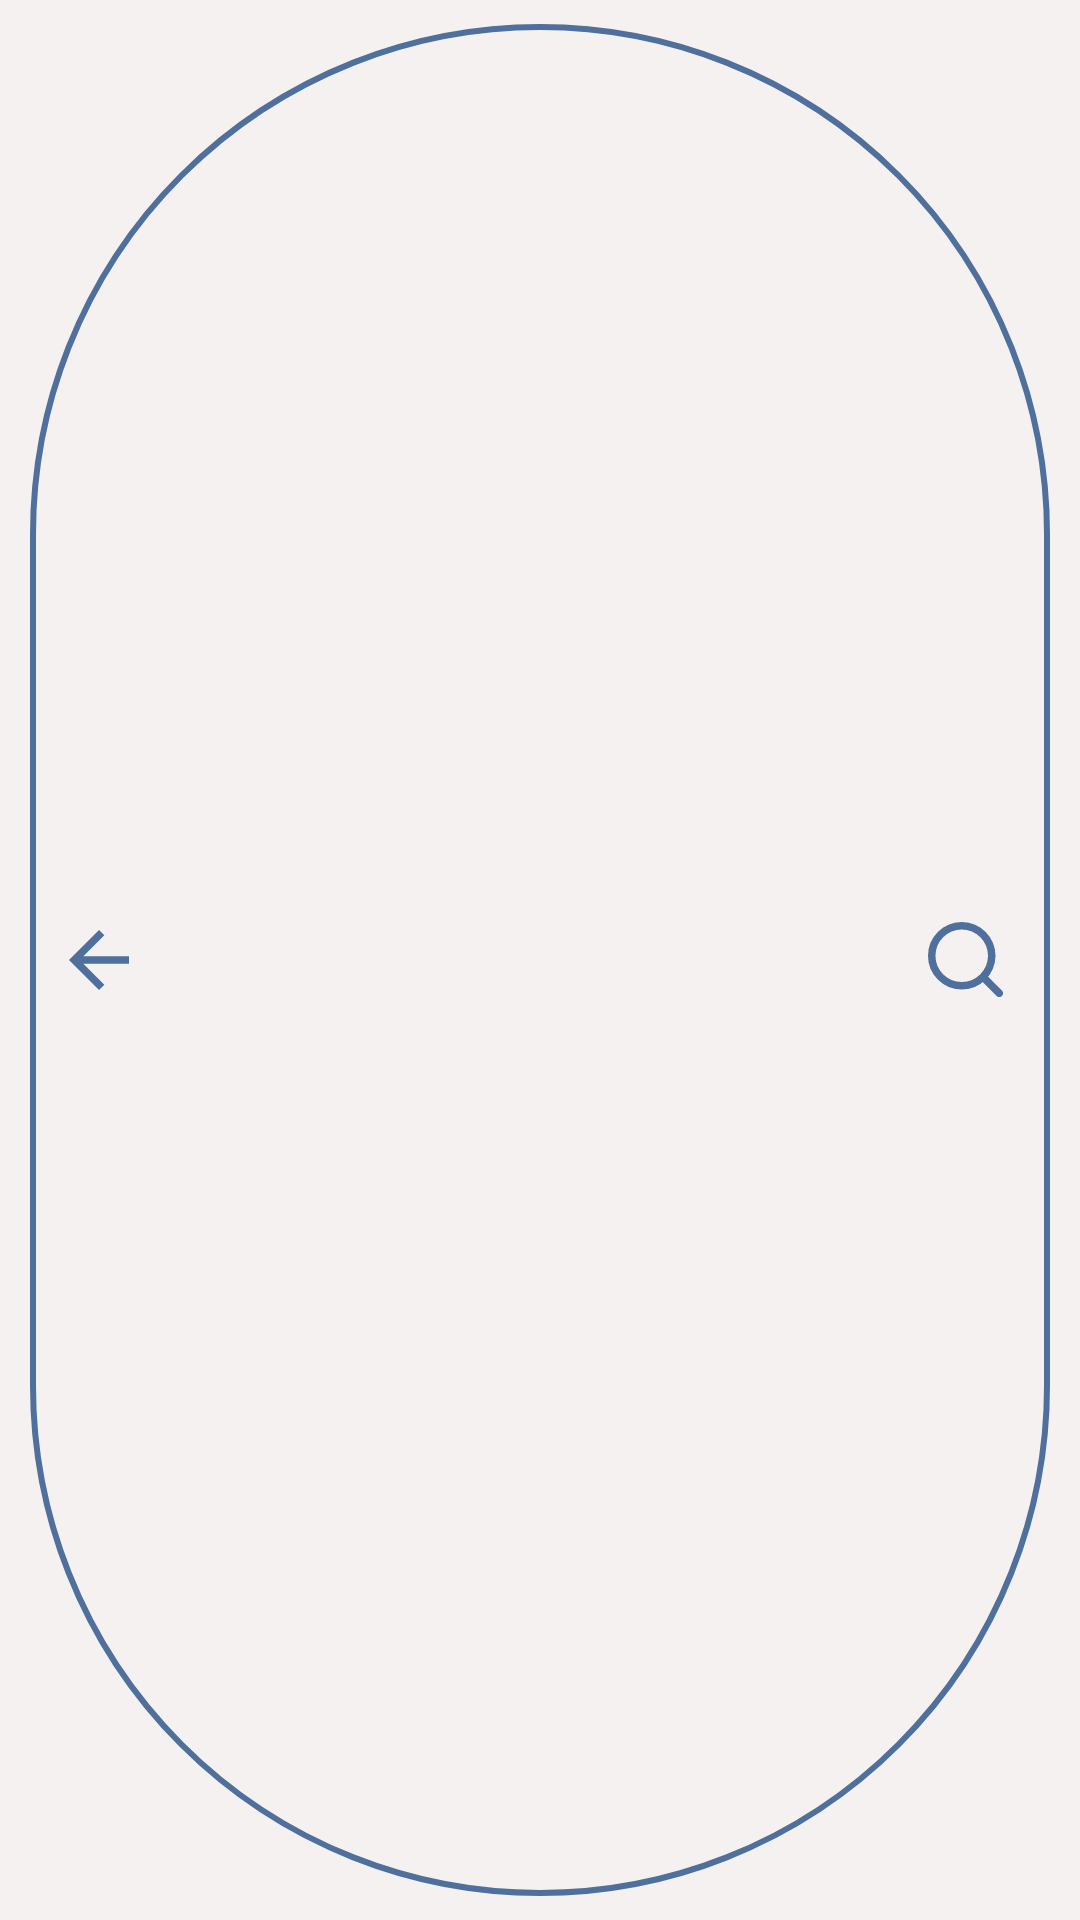

Icons on this 1080 x 1920 Android screen, each with the point to tap as (x,y):
back: (99,960)
search: (965,959)
